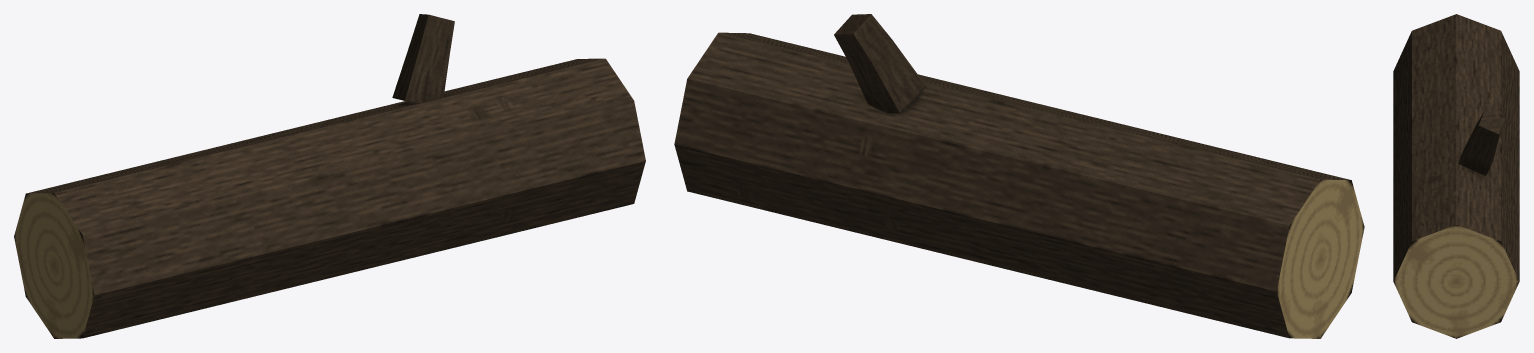
File: Log_Seat_01.obj
3 renders of one model, left to right at view 1: azimuth 30°, elevation 25°; view 2: azimuth 150°, elevation 25°; view 3: azimuth 270°, elevation 25°, orthographic. The views are drawn at different scales.
Parts seen in each view (by area): view 1: Log_Seat_01; view 2: Log_Seat_01; view 3: Log_Seat_01.
Boxes of the visible parts, x1=… form: Log_Seat_01: x1=14, y1=14, x2=645, y2=338; Log_Seat_01: x1=674, y1=14, x2=1364, y2=338; Log_Seat_01: x1=1393, y1=14, x2=1519, y2=338.
Bounding box in the file's own units: 1.4 × 0.5218 × 0.354.
1 material, 1 textured.
